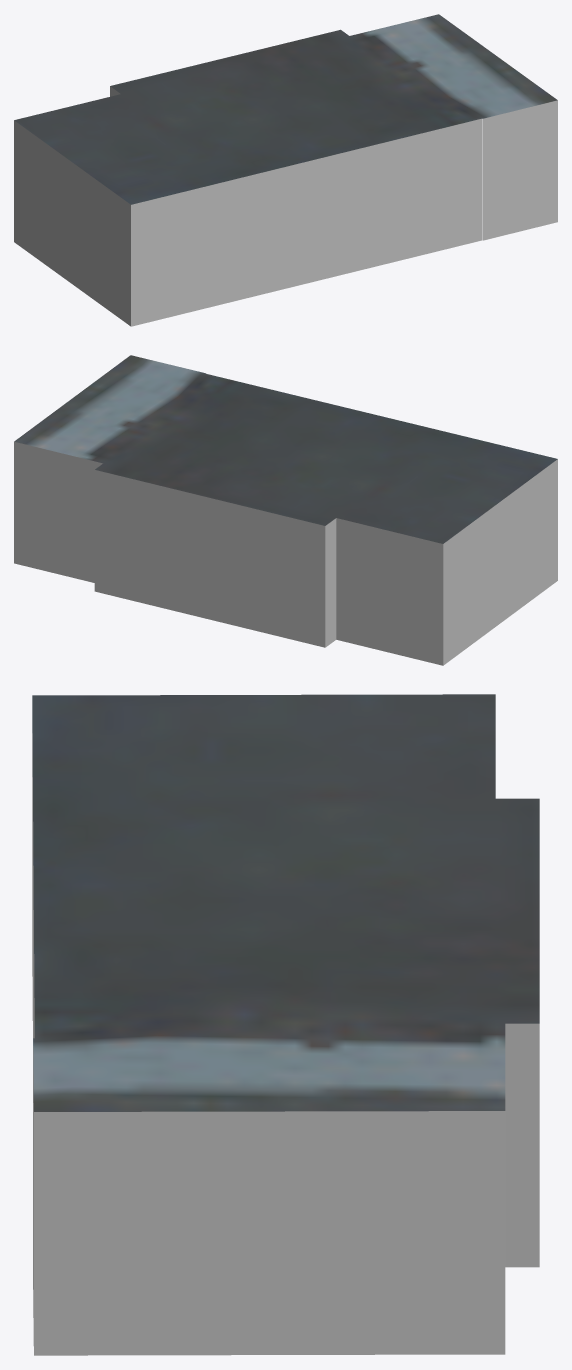
Rendered from DEBW_0010007Tx9D.gltf.
3 renders of one model, top to bottom at view 1: azimuth 30°, elevation 25°; view 2: azimuth 150°, elevation 25°; view 3: azimuth 270°, elevation 25°, orthographic. The views are drawn at different scales.
Parts seen in each view (by area): view 1: Z_UP; view 2: Z_UP; view 3: Z_UP.
Part boxes in pixels (left/top/right/bottom): Z_UP: left=14, top=14, right=557, bottom=326; Z_UP: left=14, top=355, right=557, bottom=665; Z_UP: left=32, top=694, right=539, bottom=1355.
Bounding box in the file's own units: 11.45 × 3.11 × 5.88.
Materials: 2 (1 with a texture image).
